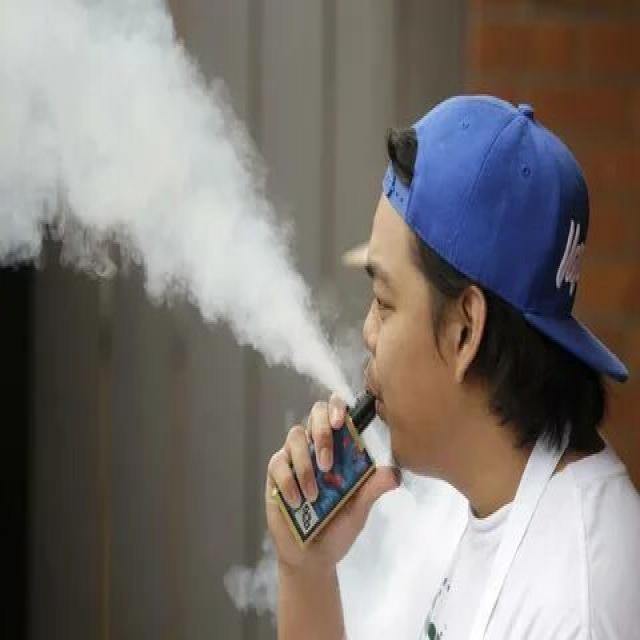smoke: (268, 386, 383, 570)
